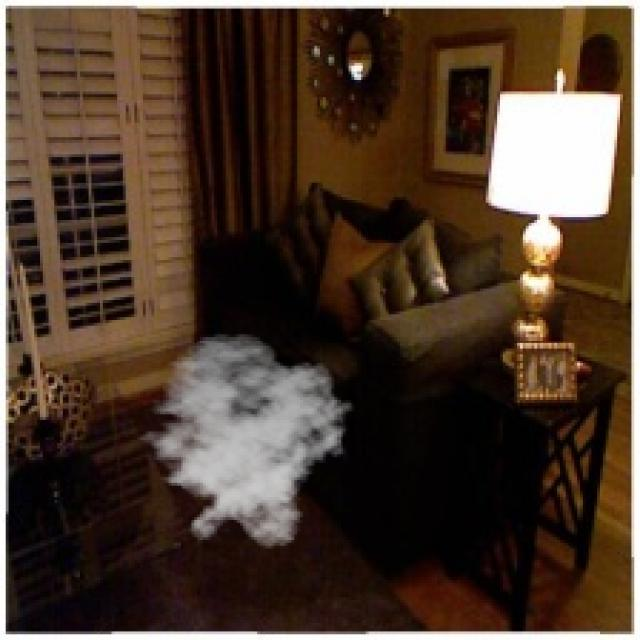smoke: (126, 332, 354, 548)
